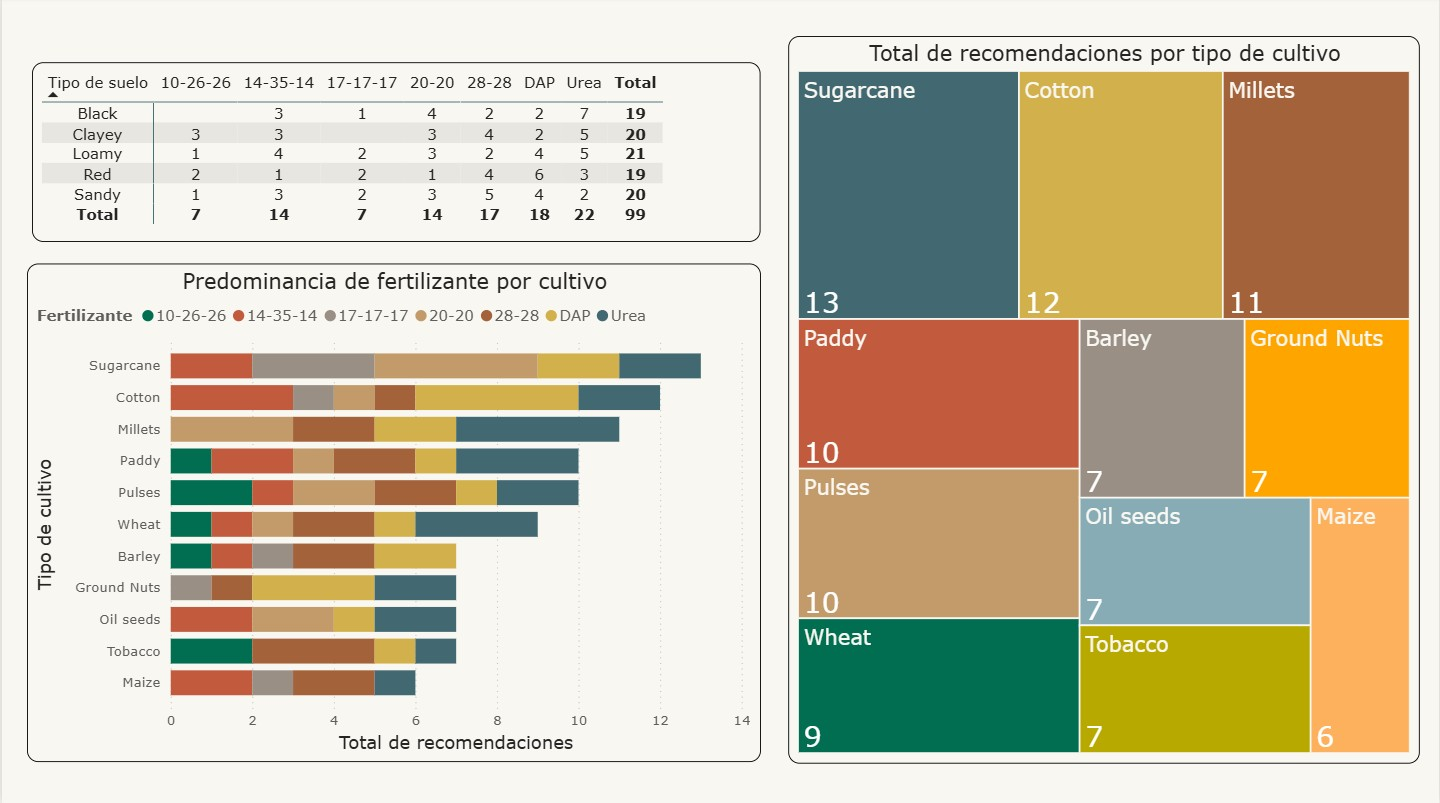

This screenshot's page, from the dashboard's own definition file:
{"tool":"powerbi","page":{"name":"Suelo y Cultivos","canvas":[1280,720],"ordinal":2},"visuals":[{"type":"pivotTable","fields":{"Rows":["DimSoil.Soil_Type"],"Columns":["DimFertilizer.Fertilizer_Name"],"Values":["FactRecommendation.Total Recomendaciones"]},"box":[26.9,58.7,648.7,160.3],"z":0},{"type":"barChart","title":"Predominancia de fertilizante por cultivo","fields":{"Category":["DimCrop.Crop_Type"],"Y":["FactRecommendation.Total Recomendaciones"],"Series":["DimFertilizer.Fertilizer_Name"]},"box":[22,238.7,653.6,444.3],"z":1000},{"type":"treemap","title":"Total de recomendaciones por tipo de cultivo","fields":{"Values":["FactRecommendation.Total Recomendaciones"],"Group":["DimCrop.Crop_Type"]},"box":[699.8,35.7,562.6,647.7],"z":2000}]}

Visuals, with their boxes in screenshot pixels (x1, y1, x2, y2), scaled from the page's 1280x720 canvas onto the 1440x803 screenshot:
pivotTable - DimSoil.Soil_Type x DimFertilizer.Fertilizer_Name: (30, 65, 760, 244)
"Predominancia de fertilizante por cultivo" barChart: (25, 266, 760, 762)
"Total de recomendaciones por tipo de cultivo" treemap: (787, 40, 1420, 762)
